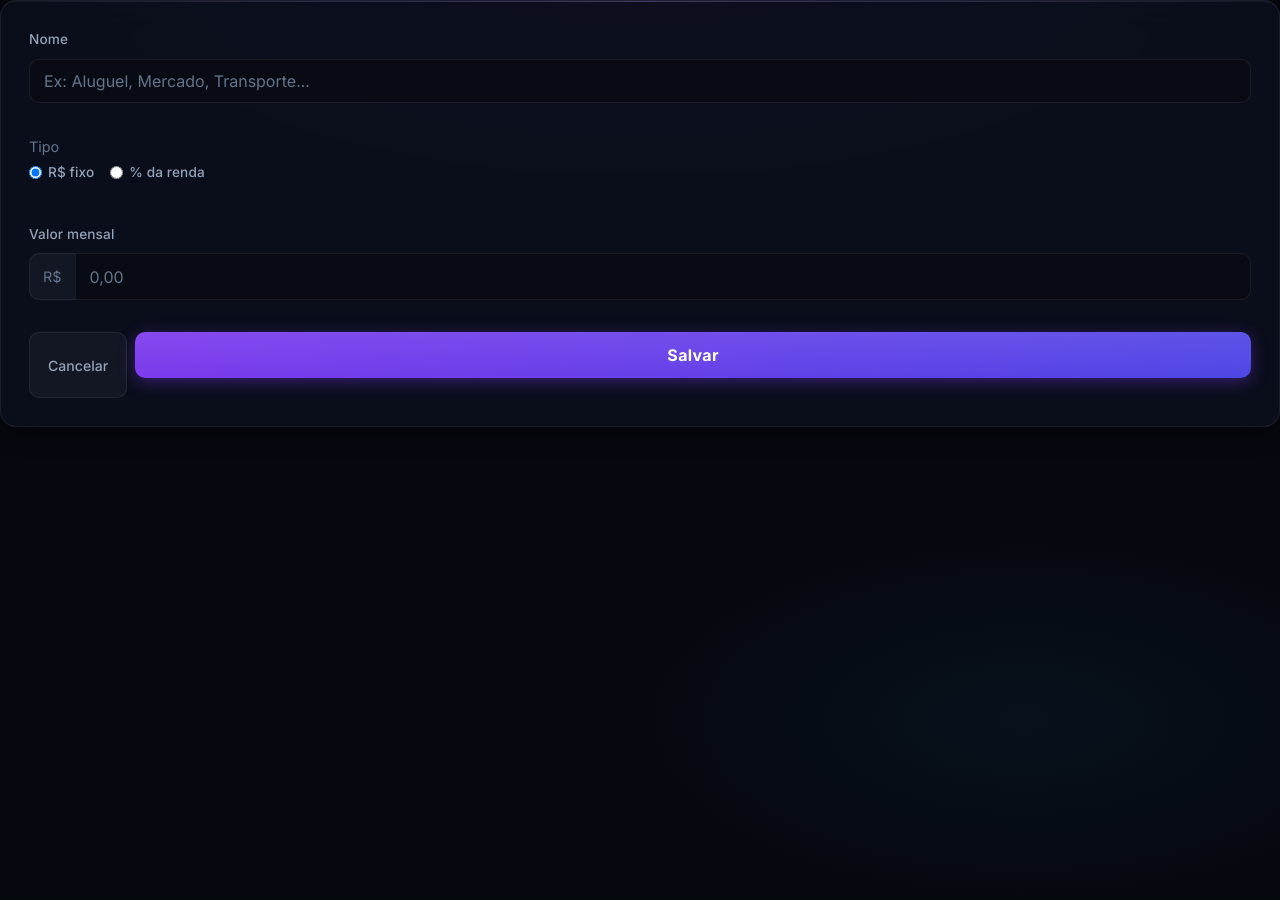
Test case: GastoForm › alternar toggle muda qual input aparece
The image size is (1280, 900).
Expected: the number field labelled "Valor mensal" is shown, [74,253,1251,300]
Expected: the field labelled "percentual" is not shown
Click the radio button labelled "% da renda": [117, 173] box [110,166,123,179]
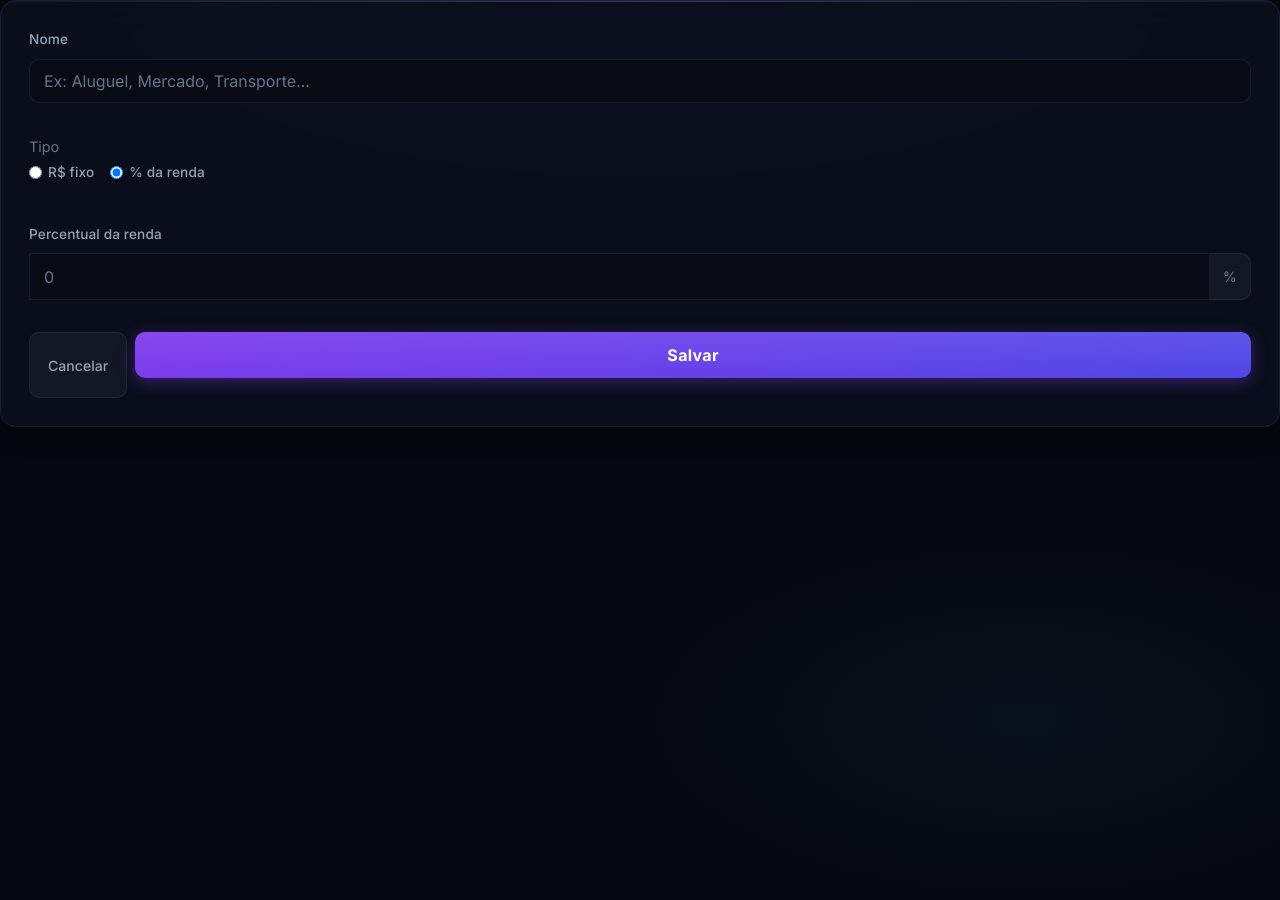
Expected: the label labelled "Valor mensal" is gone
Expected: the number field labelled "Percentual da renda" is shown, [29,253,1210,300]
